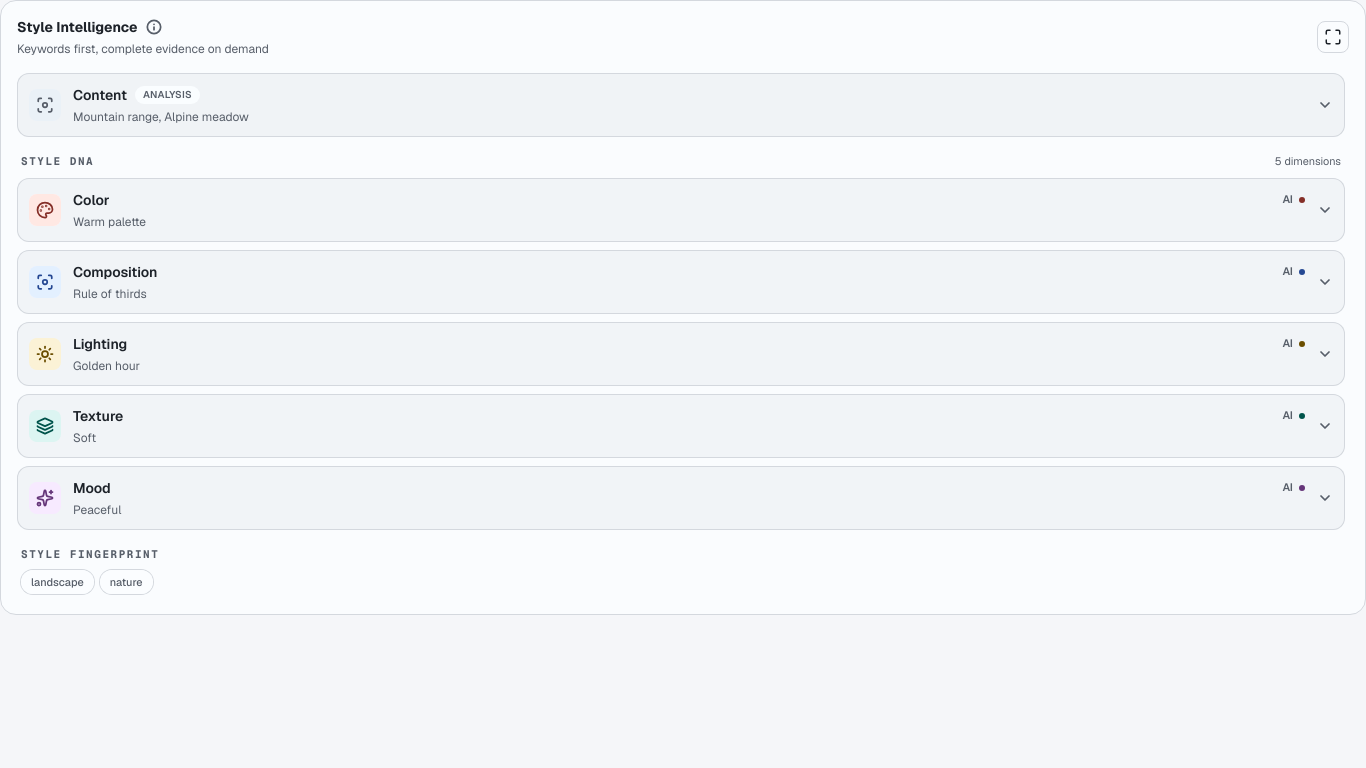
RecipeCard › renders the basic recipe shell after analysis
The width and height of the screenshot is (1366, 768).
Expected: the text "A serene landscape" is not shown
Step 1. Click the button "Content Analysis Mountain range, Alpine meadow" → click(45, 105), box [17,73,1345,137]
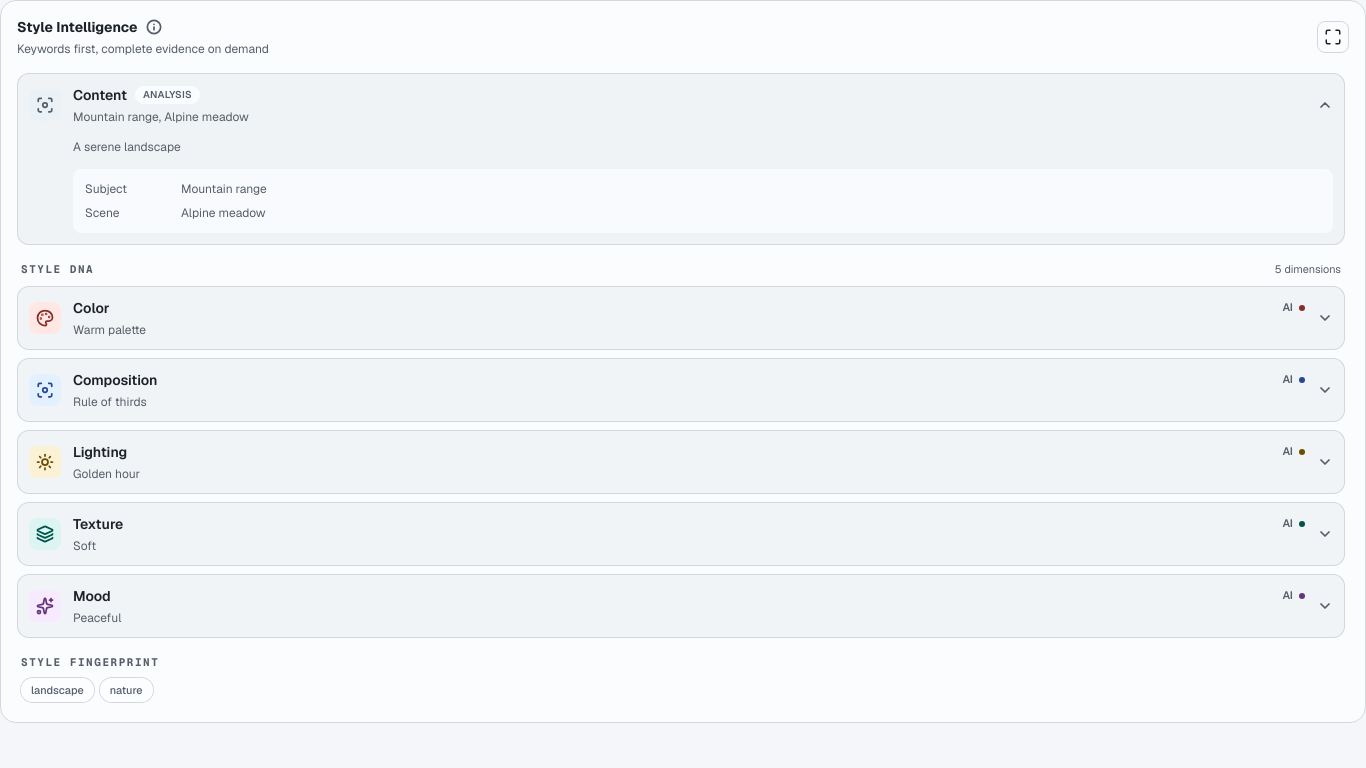
Expected: the text "landscape" is shown, [21,678,94,702]
Result: the text "A serene landscape" is shown at [73,139,181,155]
